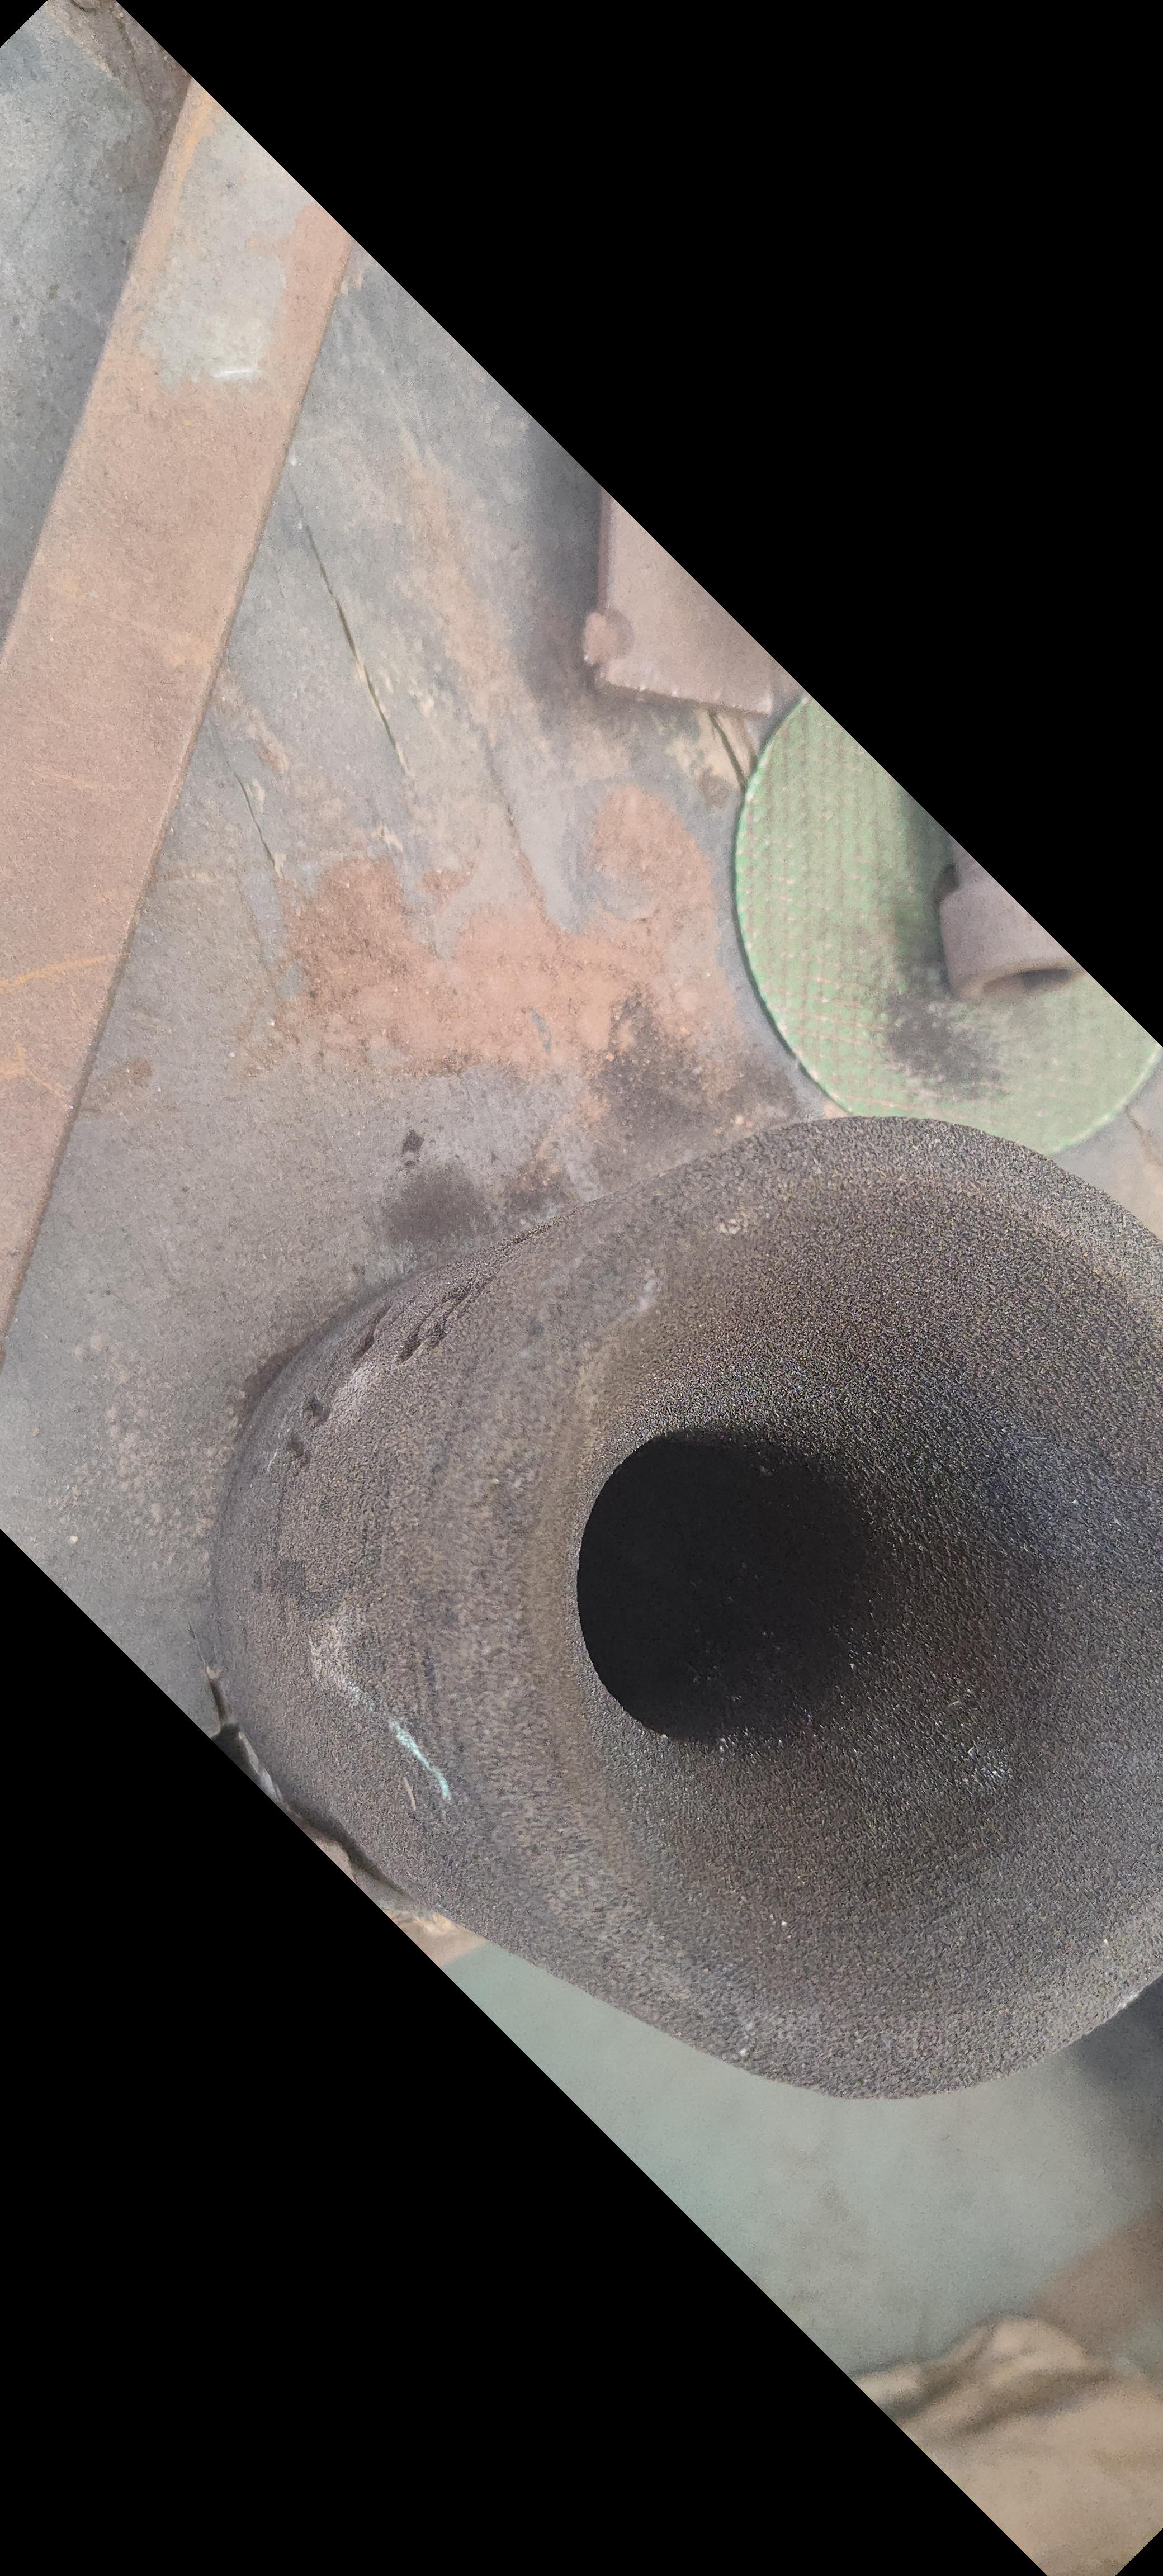pouring hole: (511, 1175, 1163, 2034)
